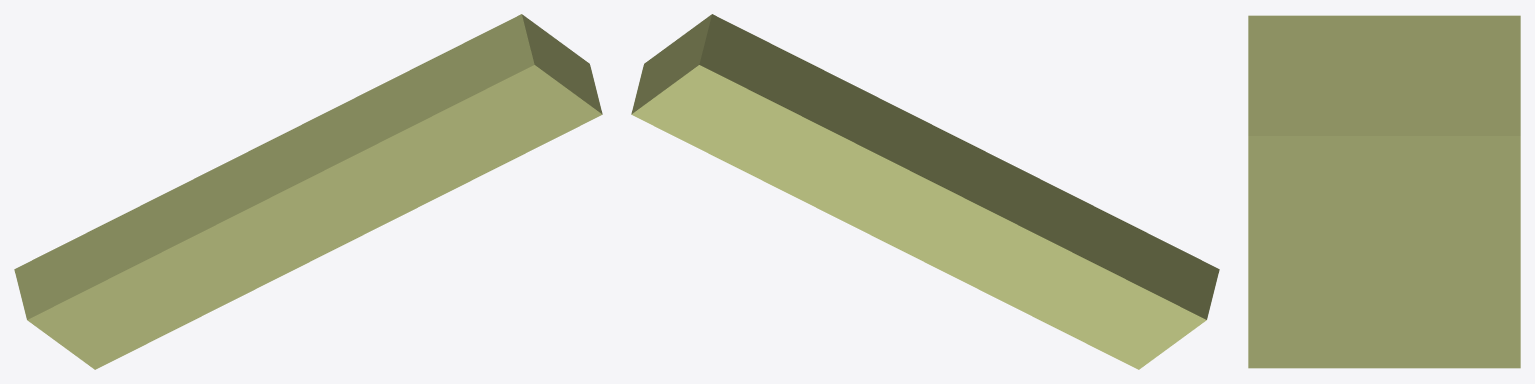
3 renders of one model, left to right at view 1: azimuth 30°, elevation 25°; view 2: azimuth 150°, elevation 25°; view 3: azimuth 270°, elevation 25°, orthographic. The views are drawn at different scales.
Parts seen in each view (by area): view 1: 0_1_3_2_1_2_2_0_3; view 2: 0_1_3_2_1_2_2_0_3; view 3: 0_1_3_2_1_2_2_0_3.
Part boxes in pixels (x1,y1,x2,y2): 0_1_3_2_1_2_2_0_3: [14, 14, 602, 369]; 0_1_3_2_1_2_2_0_3: [631, 14, 1219, 369]; 0_1_3_2_1_2_2_0_3: [1248, 15, 1520, 368].
Size of the model in its own units: 26.46 by 9.01 by 6.
